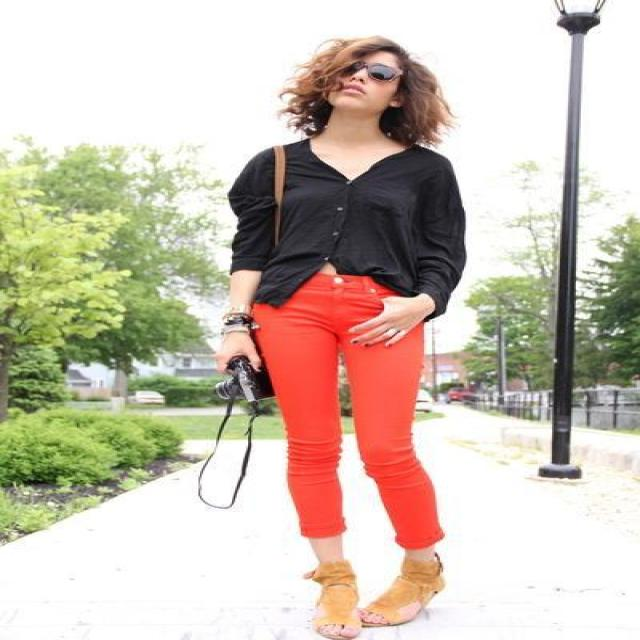pants: (251, 273, 440, 549)
shirt: (227, 141, 466, 307)
shoe: (304, 550, 443, 639)
